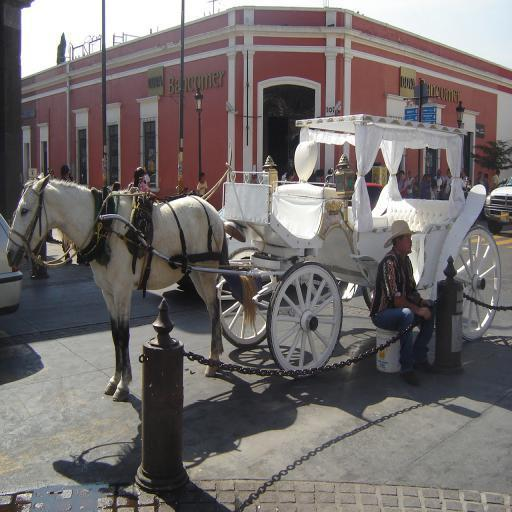horse: (6, 170, 260, 402)
